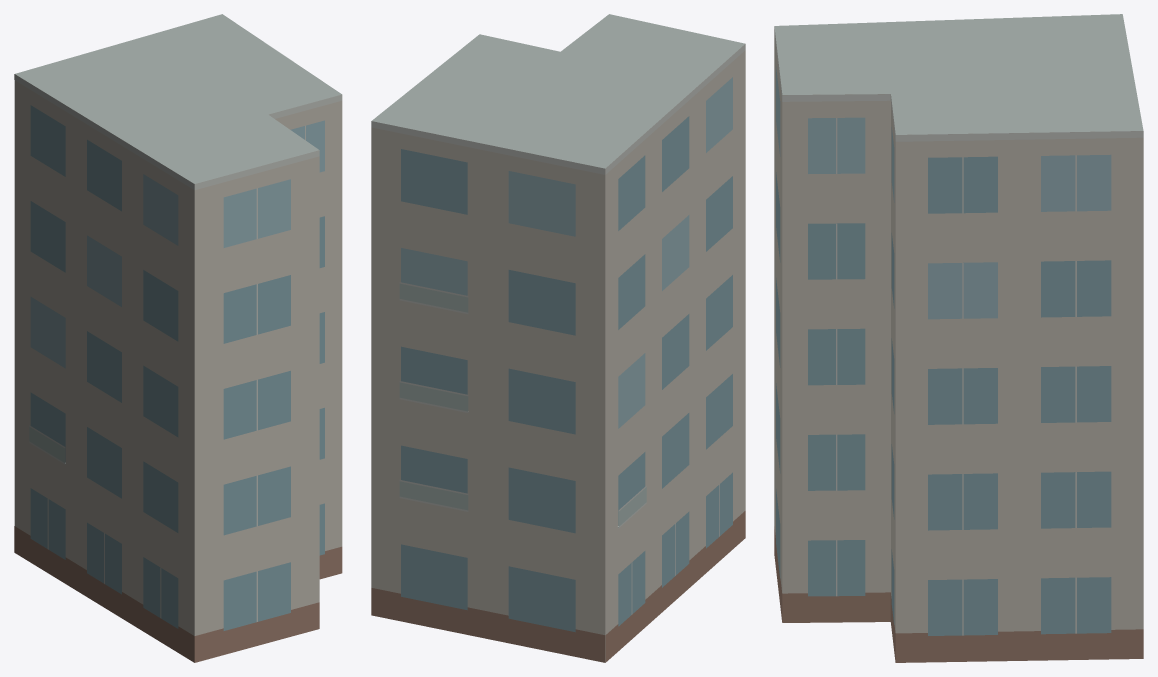
The model's file is survey-upis-32748534.glb.
3 views of the same model, side by side, from view 1: azimuth 30°, elevation 25°; view 2: azimuth 150°, elevation 25°; view 3: azimuth 270°, elevation 25° (orthographic). The views are drawn at different scales.
Visible parts, largest first — view 1: survey-upis-32748534.tmp; view 2: survey-upis-32748534.tmp; view 3: survey-upis-32748534.tmp.
Part boxes in pixels (left/top/right/bottom): survey-upis-32748534.tmp: left=14, top=14, right=342, bottom=662; survey-upis-32748534.tmp: left=371, top=14, right=745, bottom=662; survey-upis-32748534.tmp: left=774, top=14, right=1143, bottom=662.
Size of the model in its own units: 9.32 by 18.95 by 12.02.
